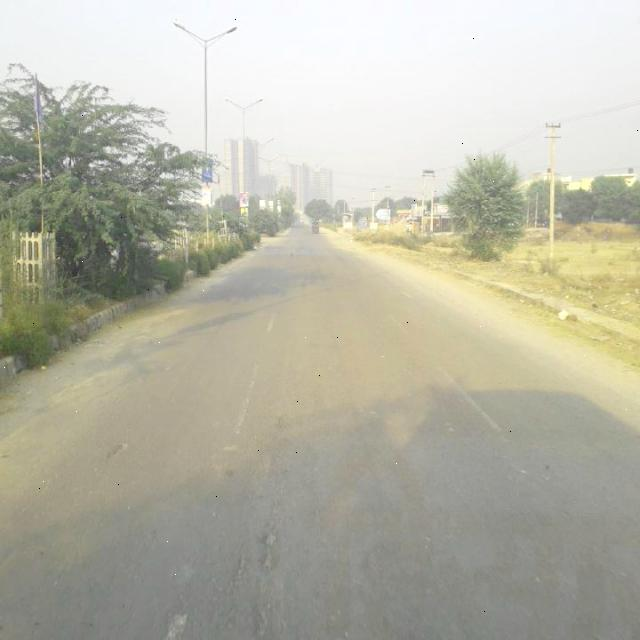D40: (252, 520, 286, 582), (106, 439, 132, 464)
D44: (434, 354, 516, 442), (231, 350, 269, 450)
